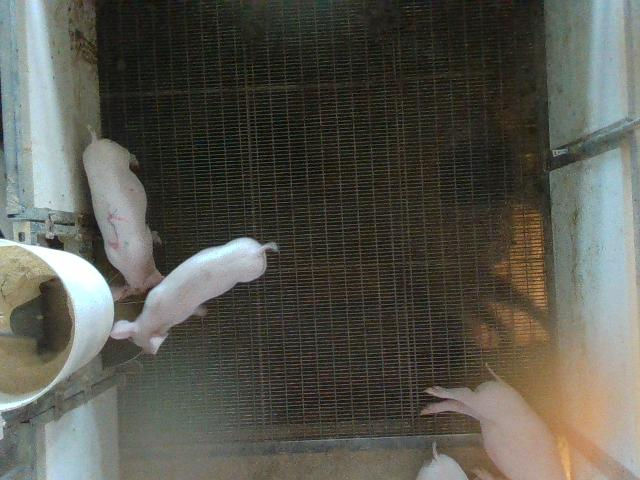pig-5: (82, 131, 162, 301)
